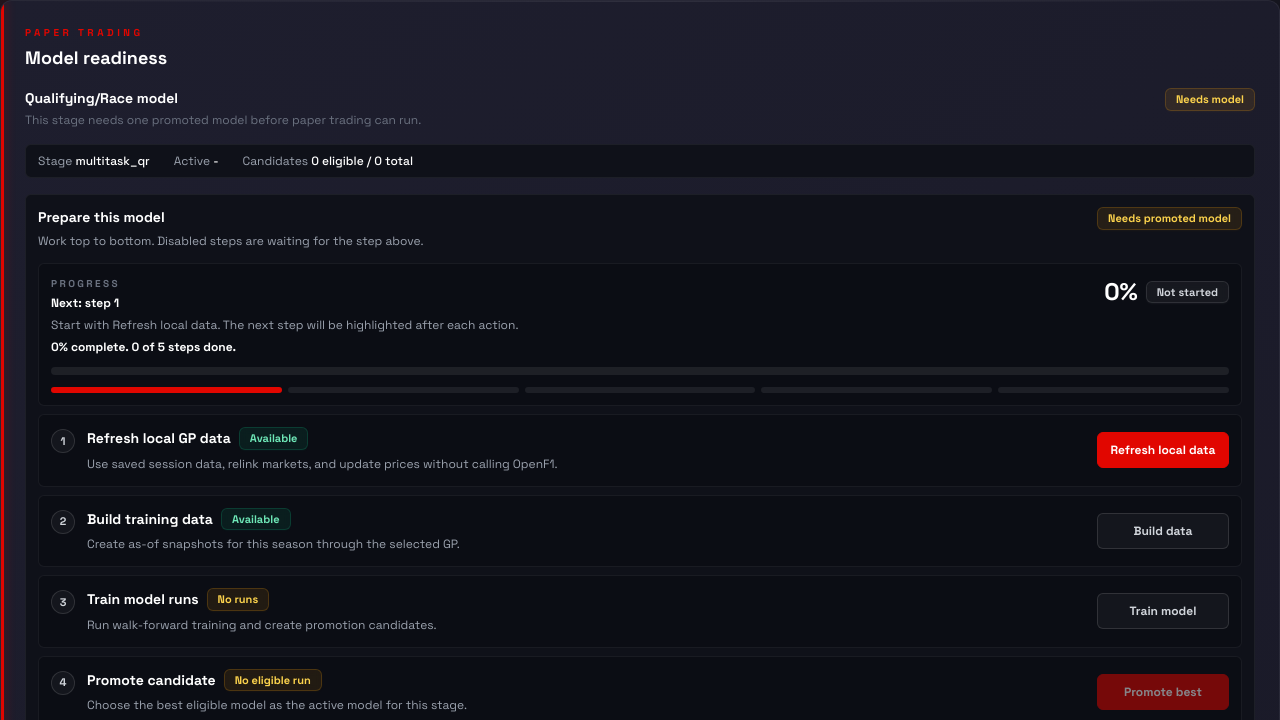
Scenario: ModelReadinessPanel › shows OpenF1 auth failures once with a readable message
Click the button "Refresh local data" at point(1163, 450), box [1097, 432, 1229, 468]
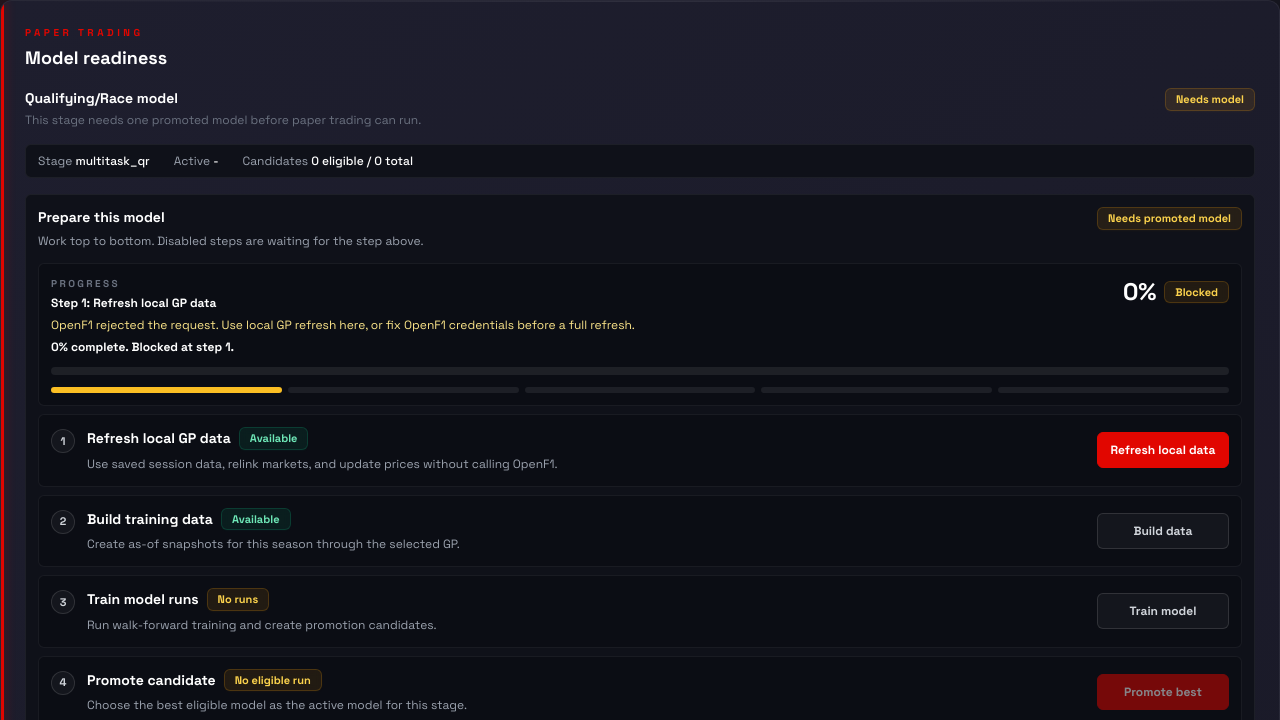
Expected: the text "OpenF1 rejected the request. Use local GP refresh here, or fix OpenF1 credentials before a full refresh." is shown once, [51, 315, 635, 335]
Expected: the text "OpenF1 rejected the request. Use local GP refresh here, or fix OpenF1 credentials before a full refresh." is shown, [51, 317, 635, 333]
